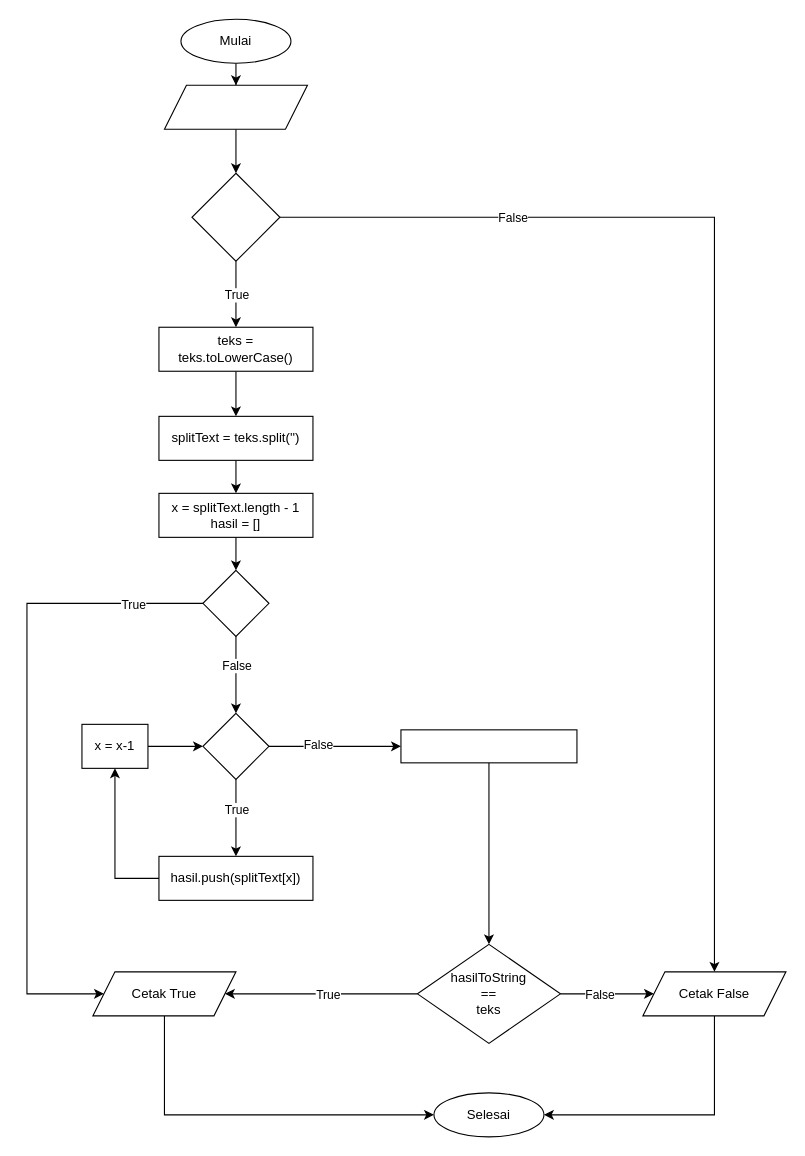
Image size: 805x1156. Some labels were removed from this diagram. Each missing label, with the centre of its shape:
hasilToString = hasil.join(''): (x=488, y=746)
Input teks: (x=235, y=106)
teks == String: (x=235, y=216)
x == 0: (x=235, y=602)
x >= 0: (x=235, y=745)
